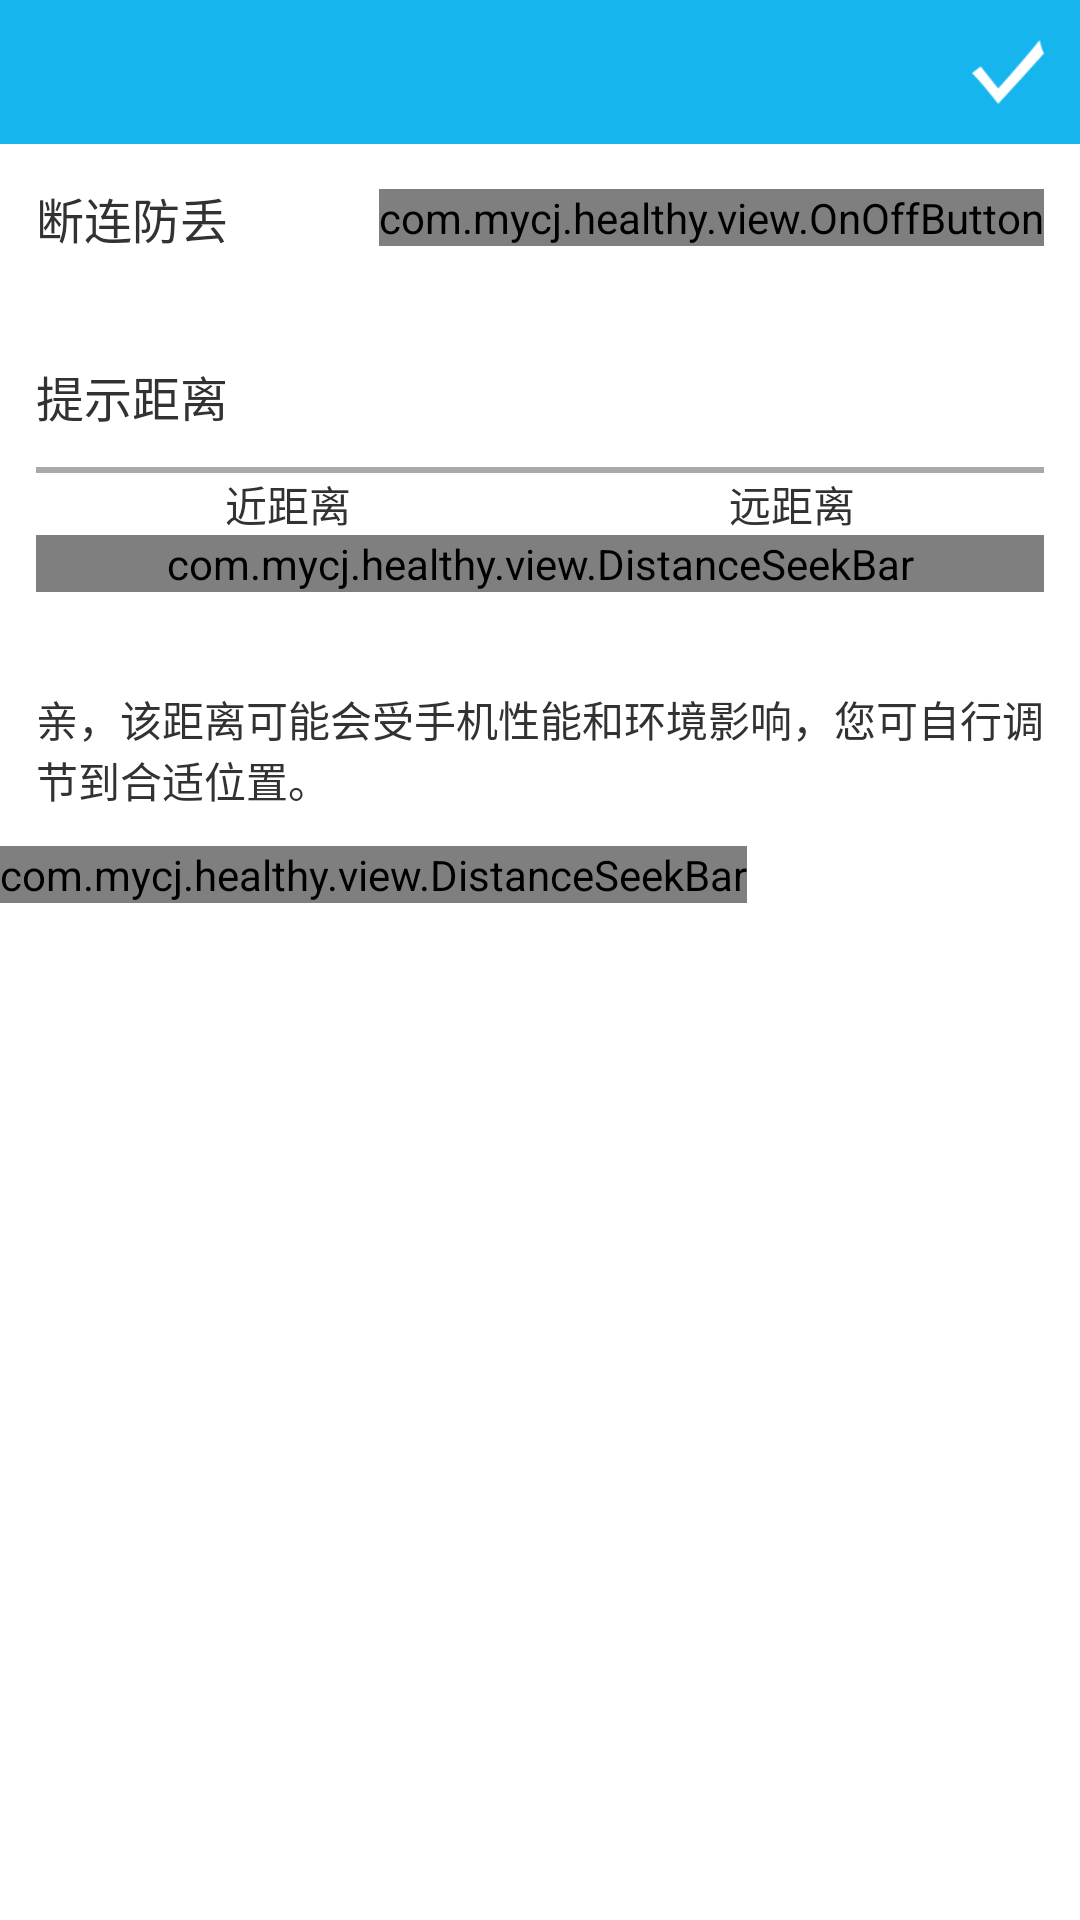

Where to tap for icons on this 1080w x 1920h app screen, as [x,y]:
setting done: [1008,72]
